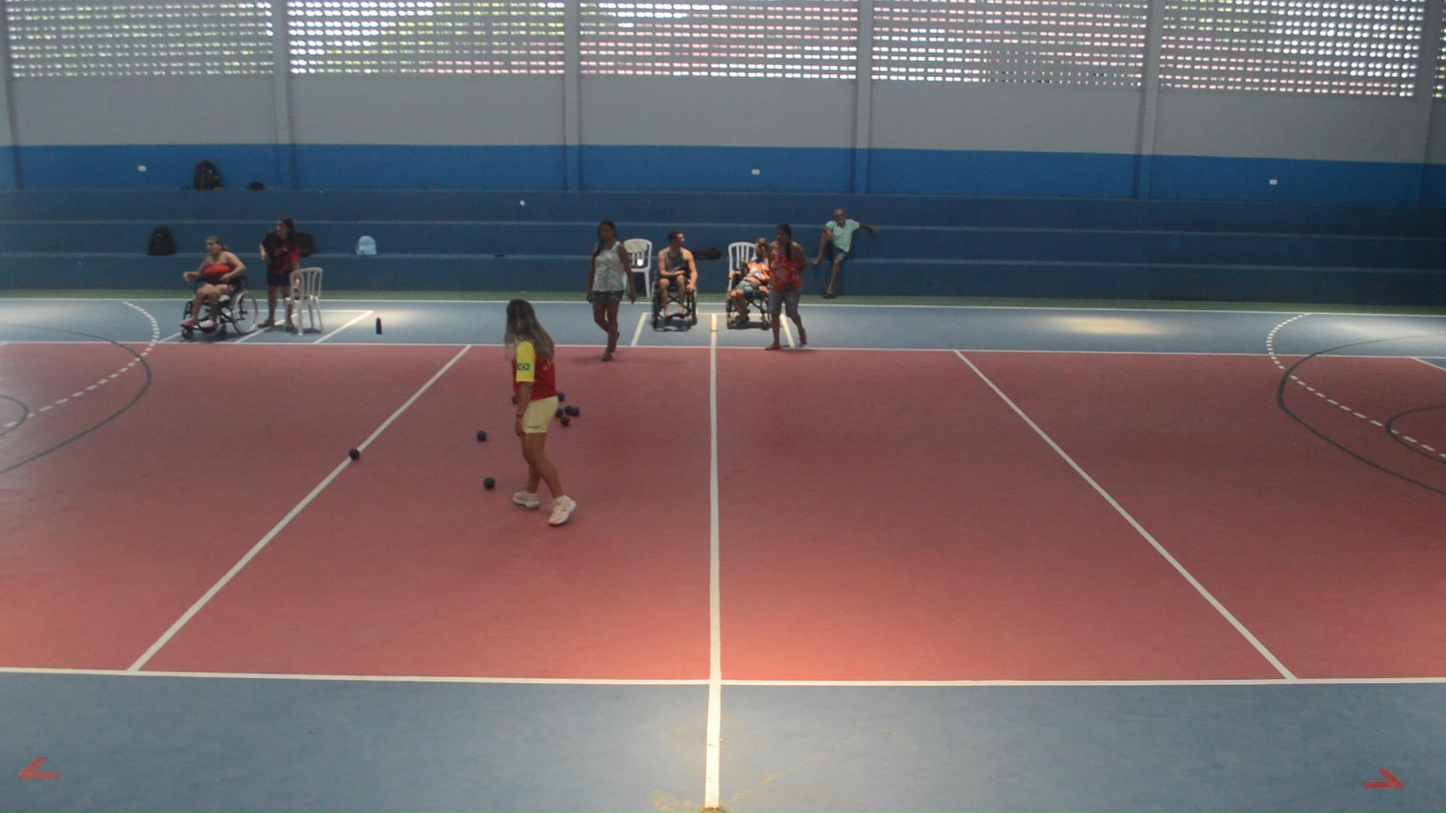blue_ball: (482, 476, 496, 489), (475, 429, 488, 441), (570, 406, 580, 417)
red_ball: (560, 416, 570, 427)
